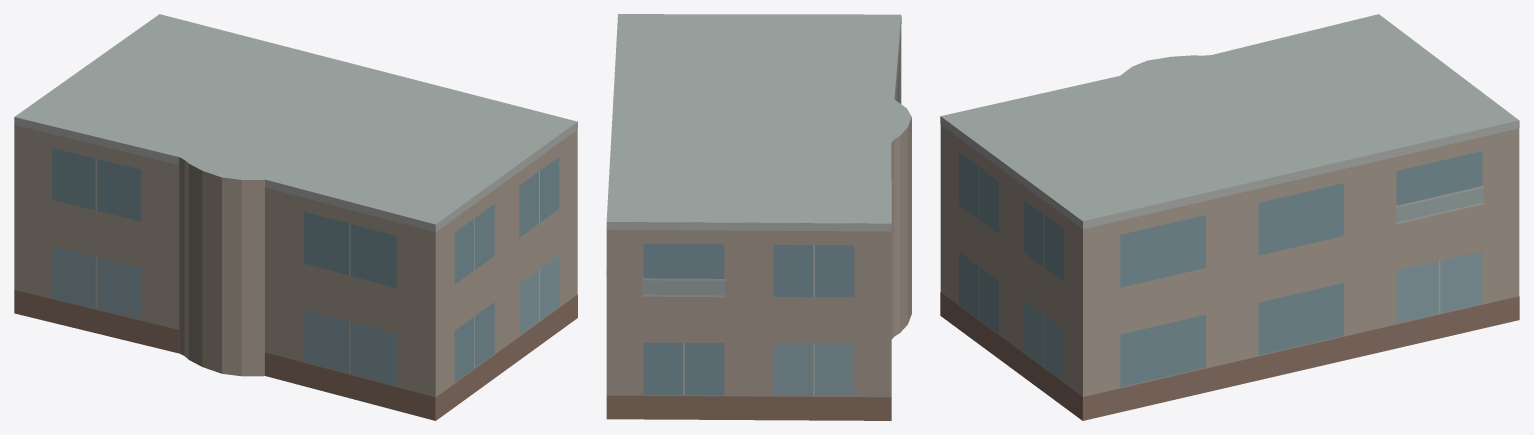
The model's file is survey-upis-32704868.glb.
The picture shows the model from 3 angles, left to right: view 1: azimuth 30°, elevation 25°; view 2: azimuth 150°, elevation 25°; view 3: azimuth 270°, elevation 25°; orthographic projection.
Parts seen in each view (by area): view 1: survey-upis-32704868.tmp; view 2: survey-upis-32704868.tmp; view 3: survey-upis-32704868.tmp.
Part boxes in pixels (<box>): survey-upis-32704868.tmp: <box>14,14,577,420</box>; survey-upis-32704868.tmp: <box>606,14,911,420</box>; survey-upis-32704868.tmp: <box>940,14,1519,420</box>.
Size of the model in its own units: 13.6 by 6.1 by 16.05.
